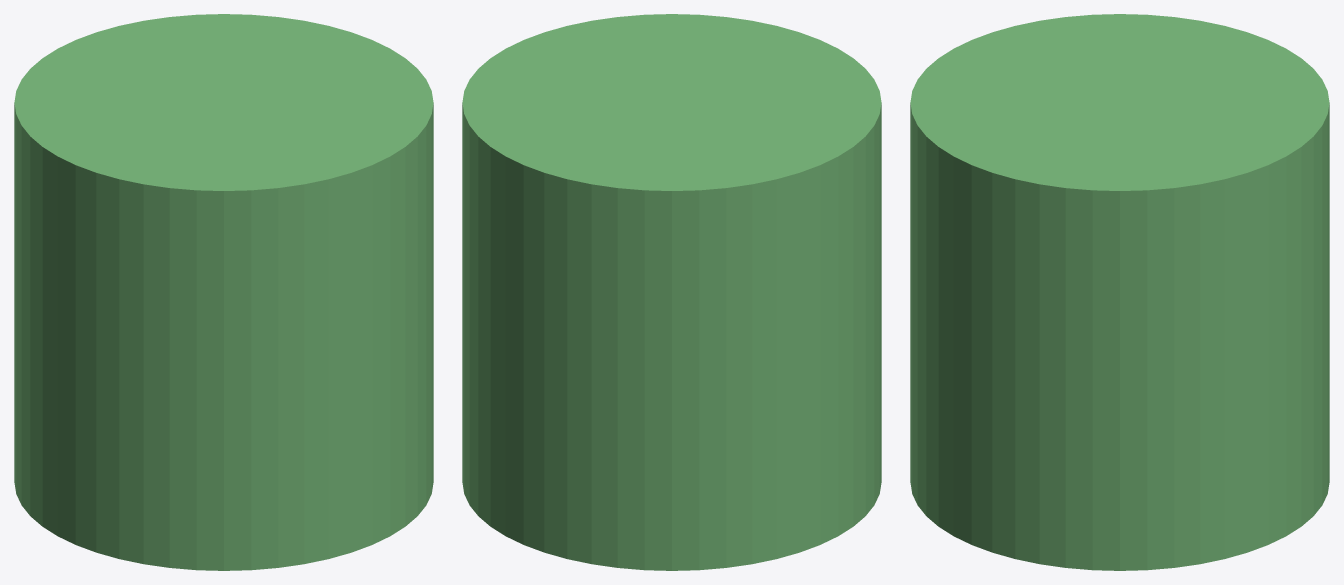
The model's file is shape.glb (4).glb.
The picture shows the model from 3 angles, left to right: view 1: azimuth 30°, elevation 25°; view 2: azimuth 150°, elevation 25°; view 3: azimuth 270°, elevation 25°; orthographic projection.
Visible parts, largest first — view 1: Mesh_Mesh_head_geo.001_lambert2SG.001; view 2: Mesh_Mesh_head_geo.001_lambert2SG.001; view 3: Mesh_Mesh_head_geo.001_lambert2SG.001.
Part boxes in pixels (x1,y1,x2,y2): Mesh_Mesh_head_geo.001_lambert2SG.001: [14, 14, 433, 570]; Mesh_Mesh_head_geo.001_lambert2SG.001: [462, 14, 881, 570]; Mesh_Mesh_head_geo.001_lambert2SG.001: [910, 14, 1329, 570].
Bounding box in the file's own units: 0.02 × 0.02 × 0.02.
